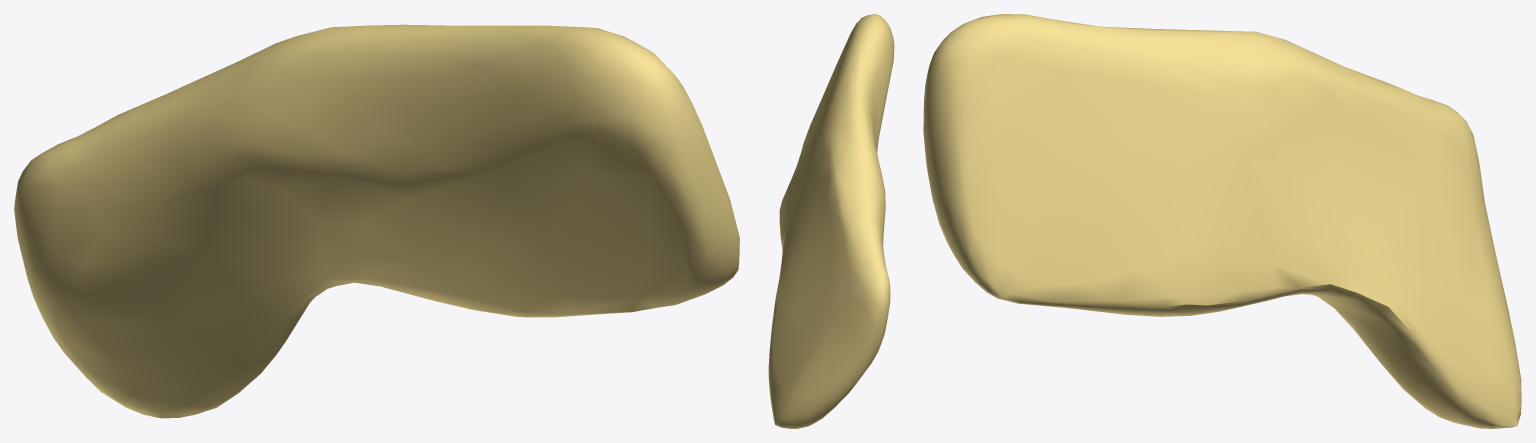
Rendered from fma62171-r_mm2794m.glb.
The picture shows the model from 3 angles, left to right: view 1: azimuth 30°, elevation 25°; view 2: azimuth 150°, elevation 25°; view 3: azimuth 270°, elevation 25°; orthographic projection. The views are drawn at different scales.
Parts seen in each view (by area): view 1: FMA62171-R_MM2794M; view 2: FMA62171-R_MM2794M; view 3: FMA62171-R_MM2794M.
Boxes of the visible parts, box(x1,y1,x2,y2) form: FMA62171-R_MM2794M: box(14, 24, 739, 418); FMA62171-R_MM2794M: box(768, 14, 894, 428); FMA62171-R_MM2794M: box(923, 14, 1521, 428).
Size of the model in its own units: 0.00403 by 0.00492 by 0.00574.
